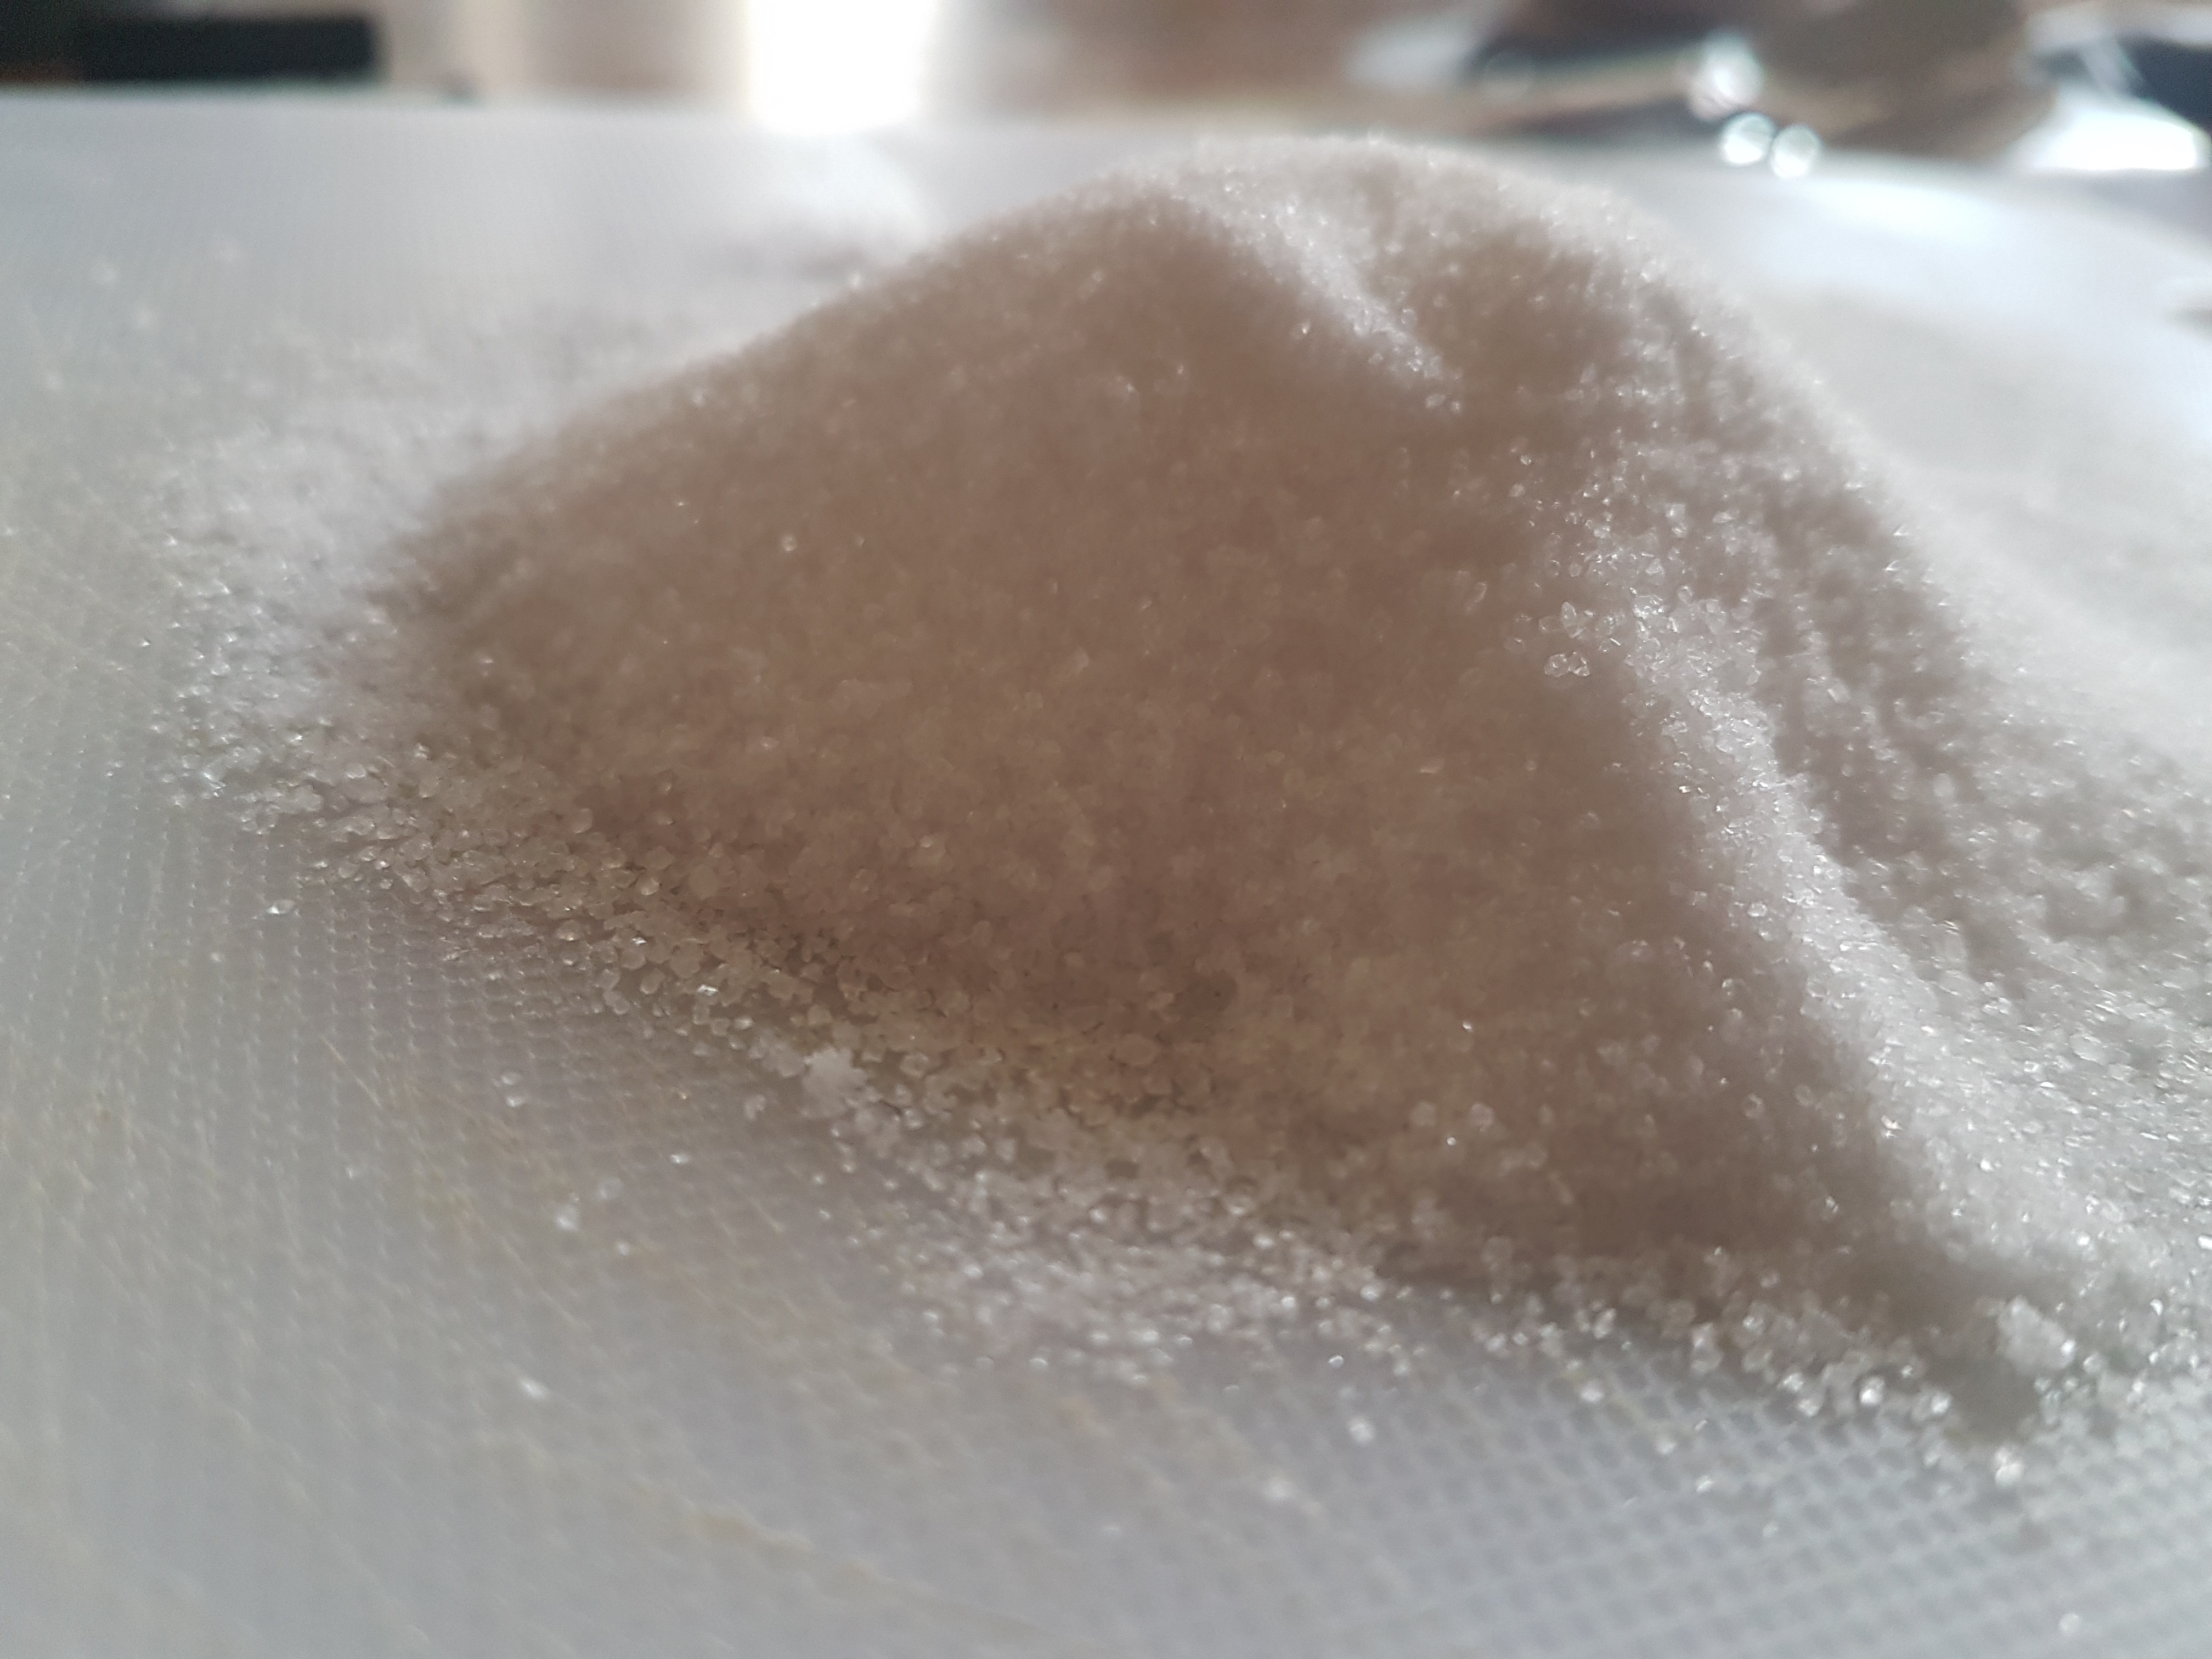Sugar: (402, 129, 2212, 1473)
